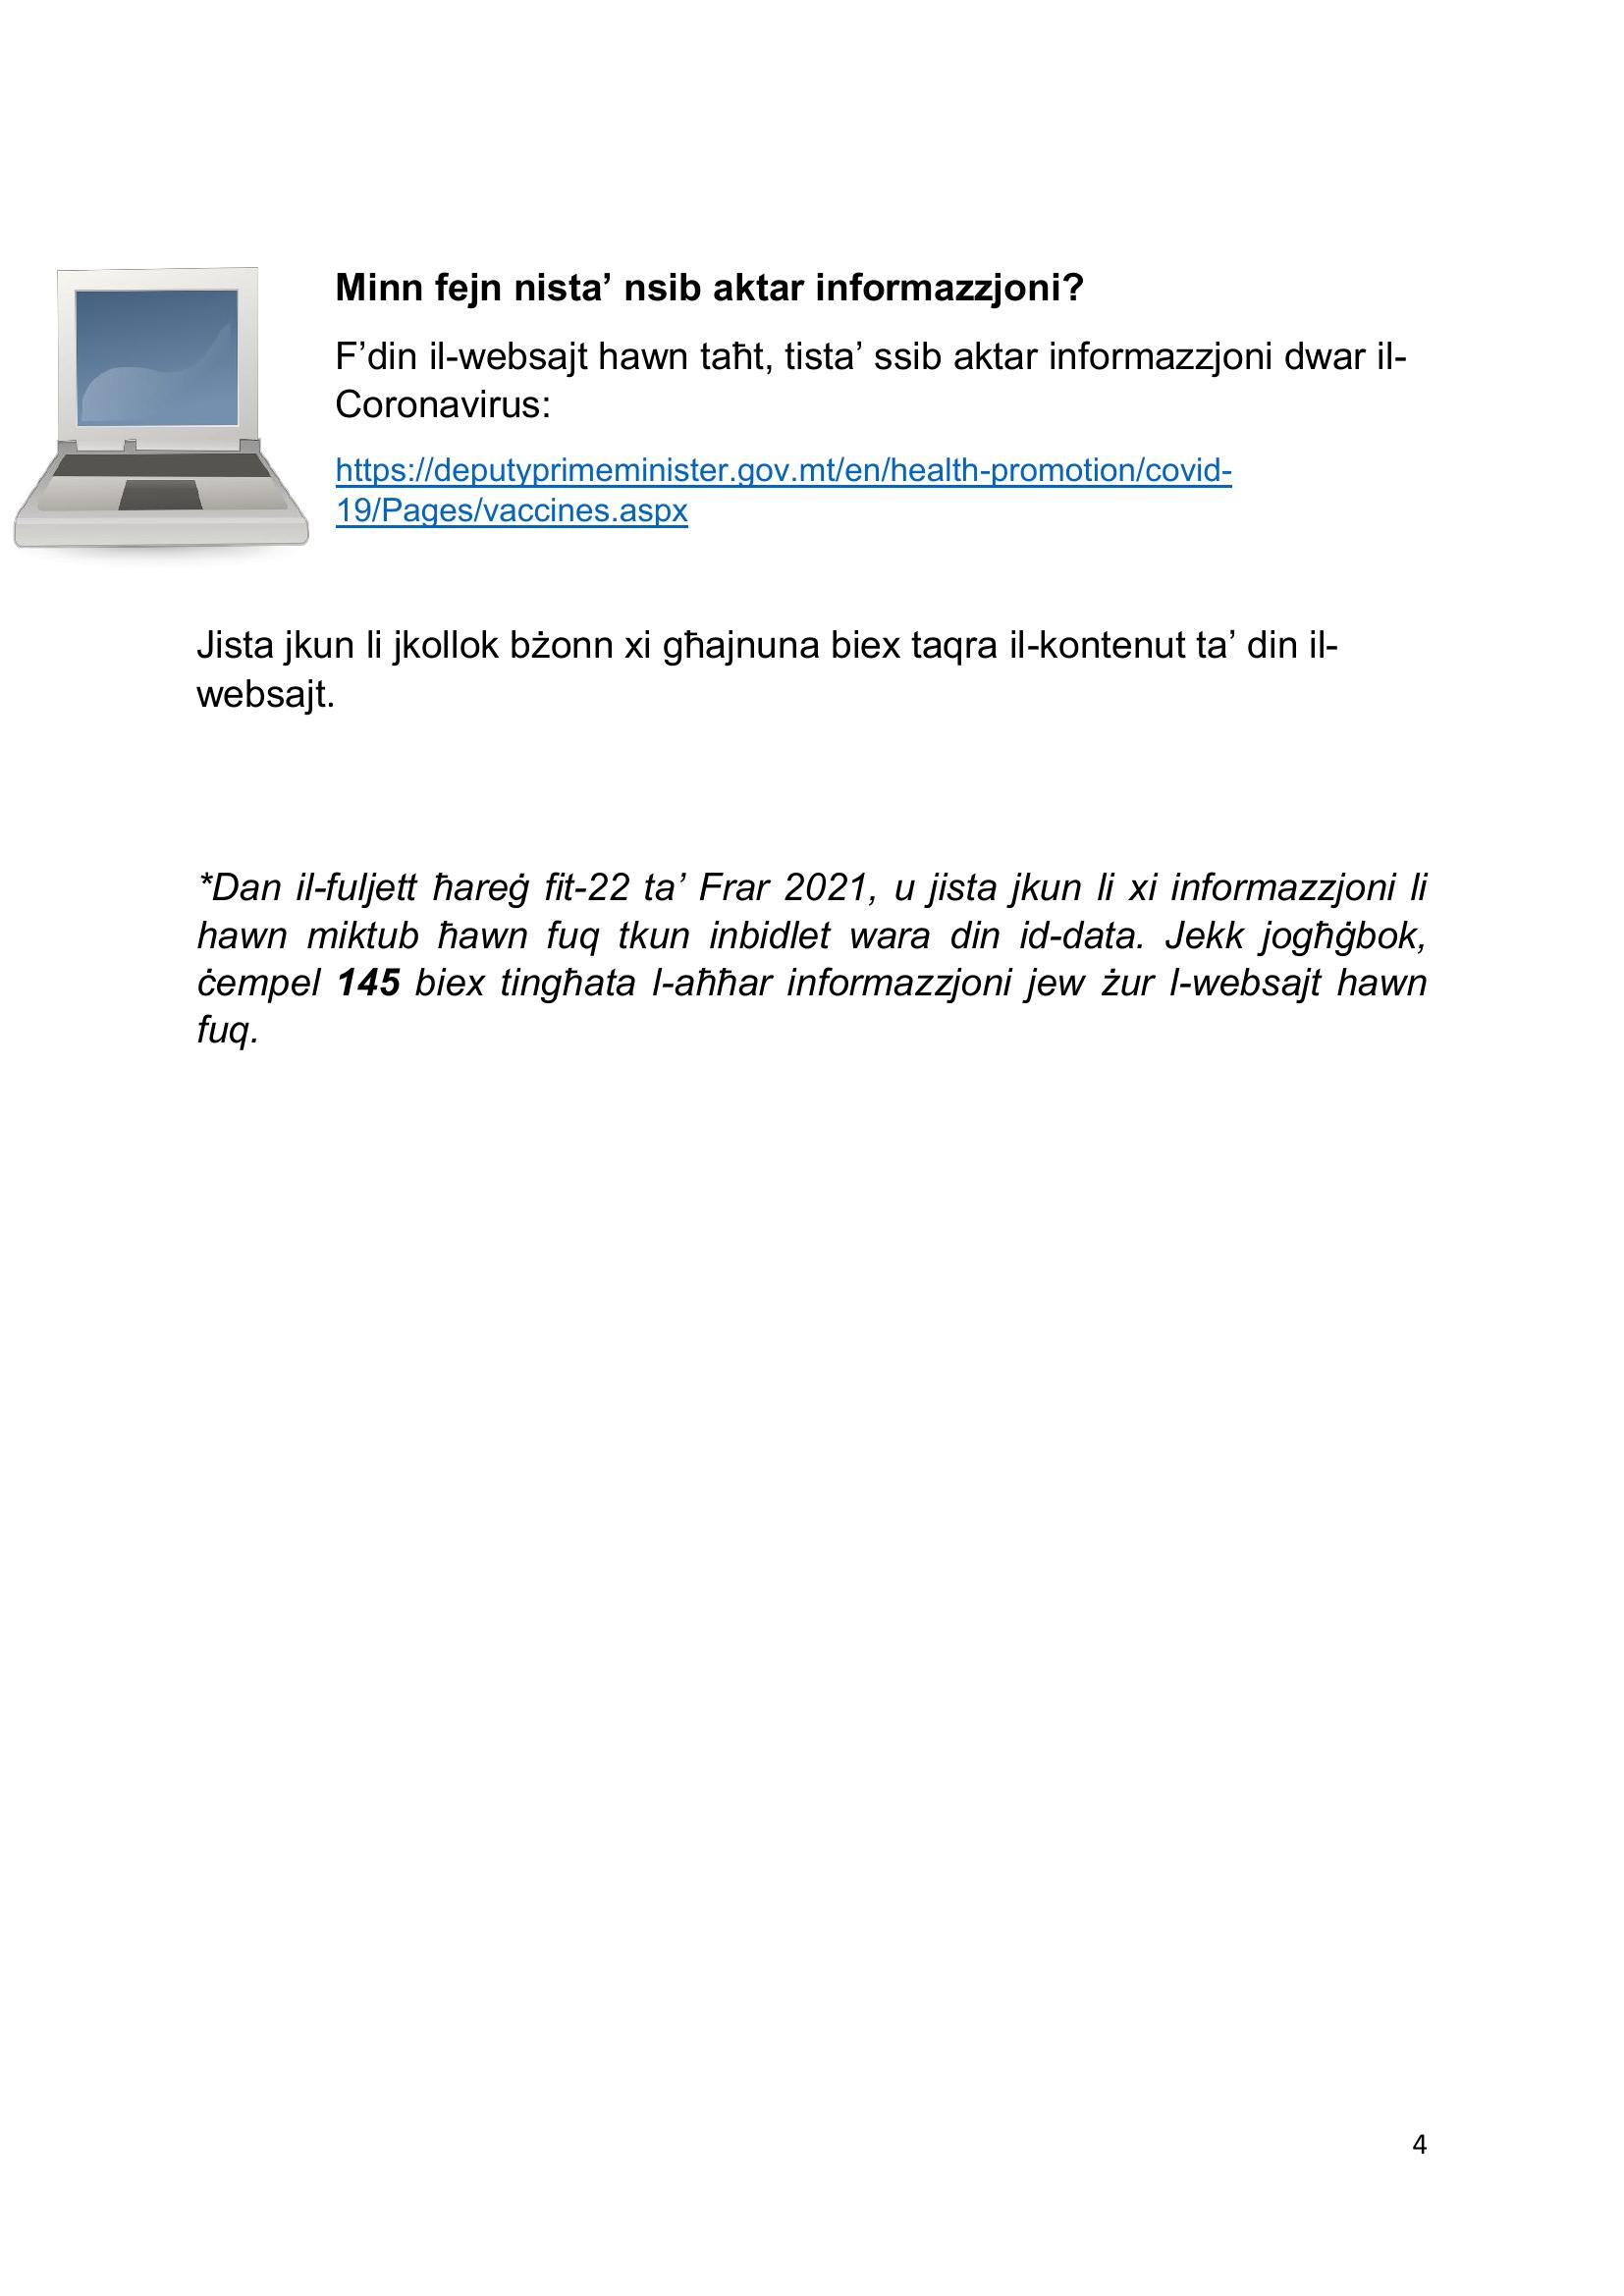text: (165, 599, 1450, 1070), (315, 246, 1439, 546)
